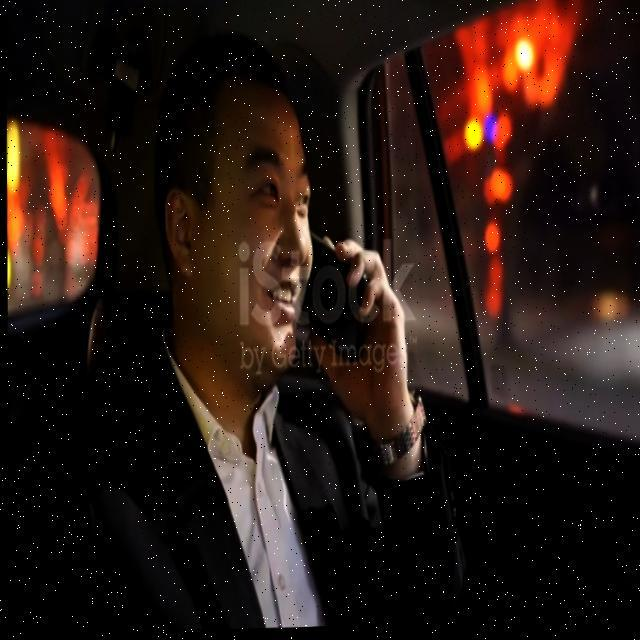PhoneCall: (300, 230, 366, 370)
